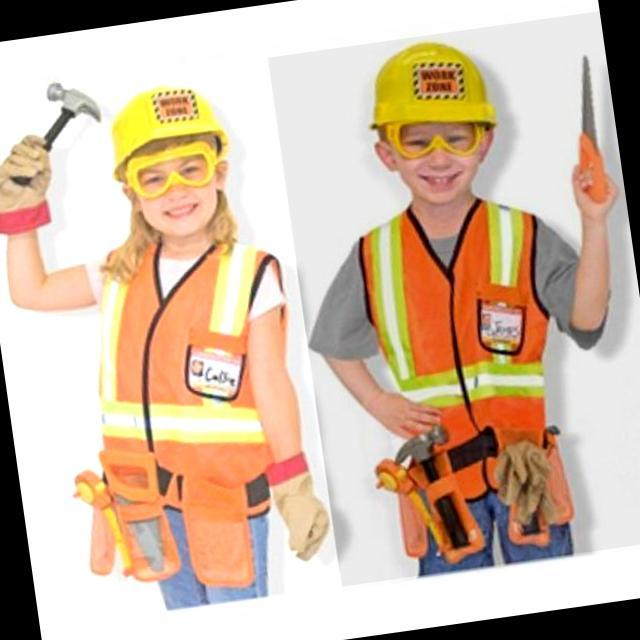Gloves: (260, 444, 336, 568), (0, 114, 63, 254)
Helmet: (359, 35, 500, 149), (99, 78, 234, 186)
Person: (0, 42, 326, 622), (328, 13, 640, 598)
Safety Vest: (73, 226, 318, 535), (355, 191, 575, 509)
bare-arms: (383, 380, 458, 445), (565, 159, 626, 216)
